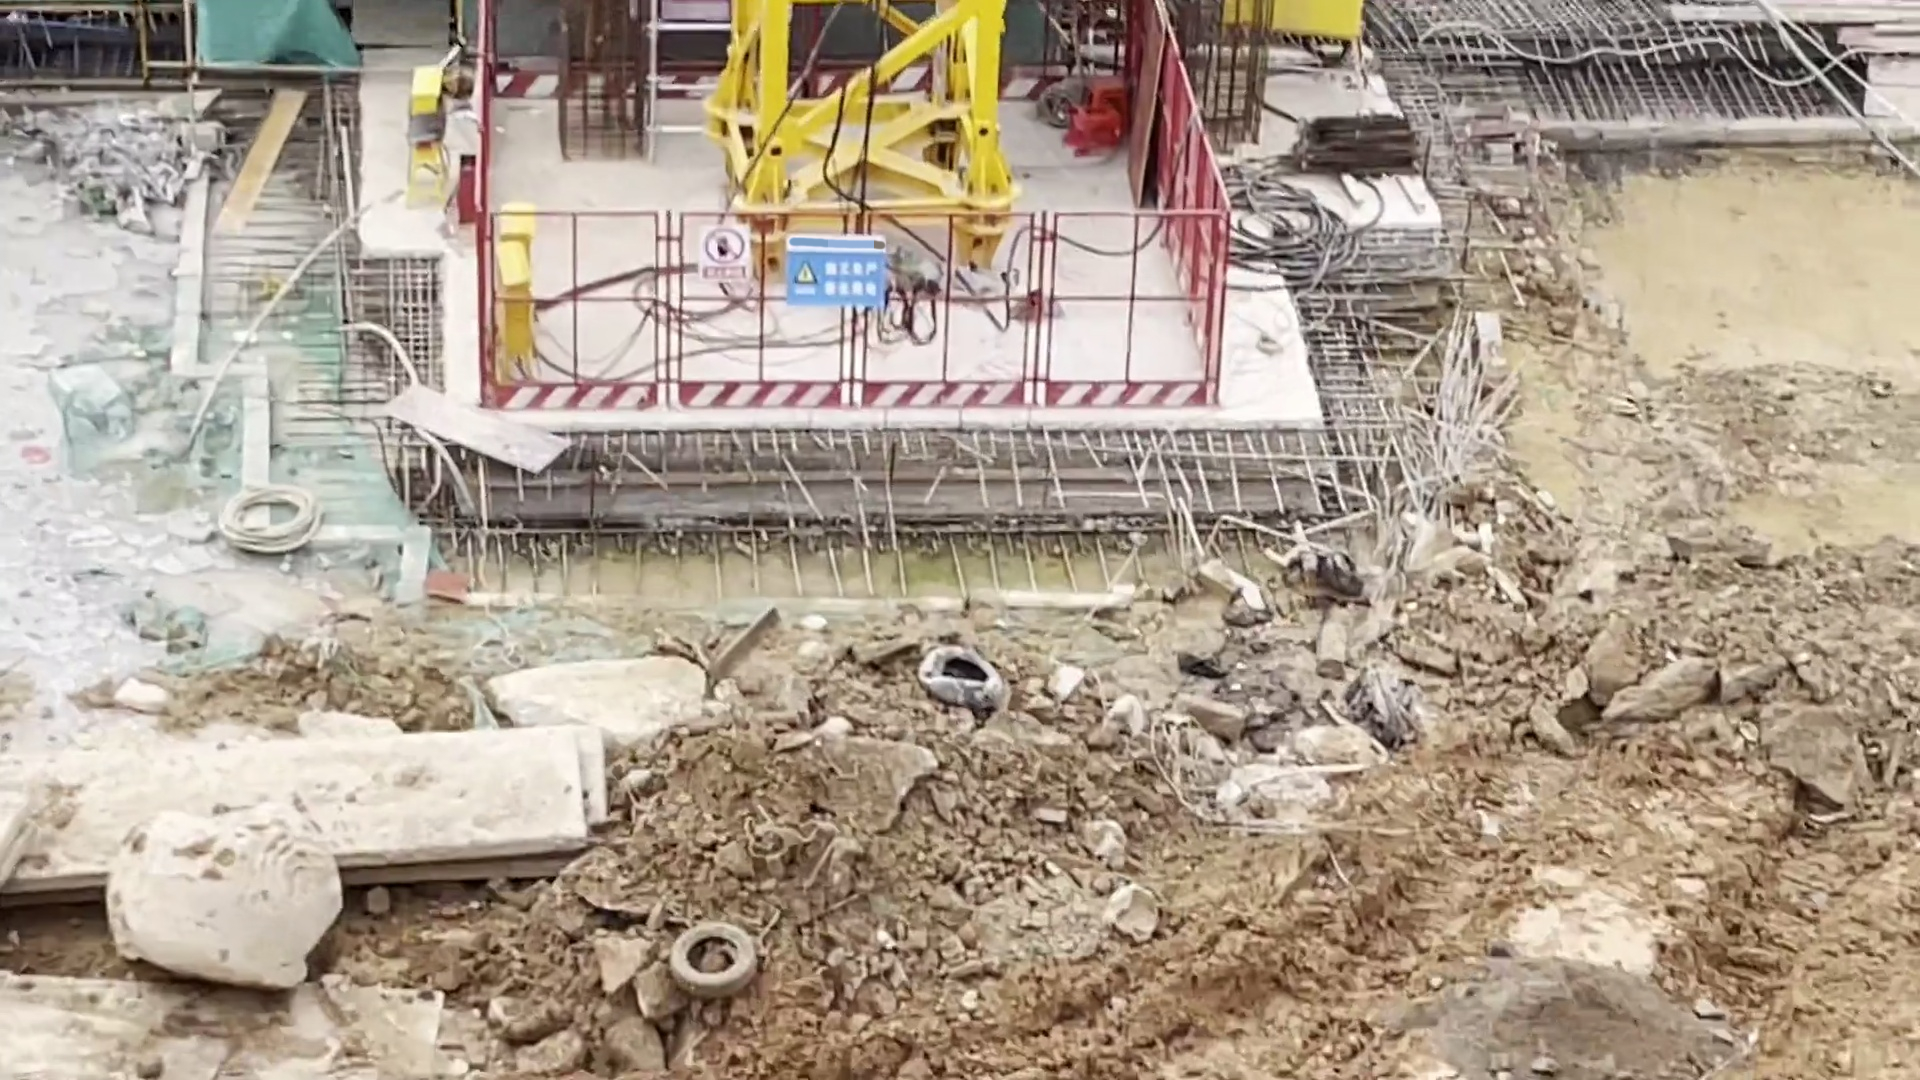ebox: (485, 204, 534, 378), (405, 69, 451, 202)
fence: (491, 210, 1217, 402), (1153, 38, 1232, 353)
slogan: (787, 237, 884, 306), (702, 229, 750, 284)
